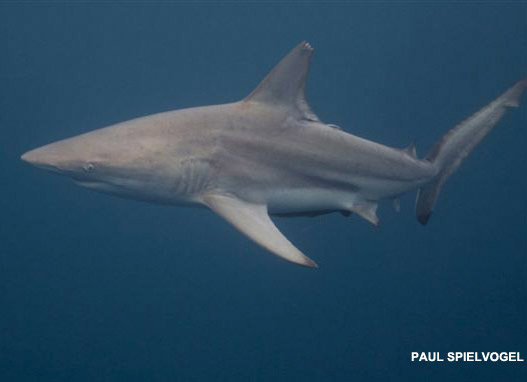shark: (9, 8, 527, 279)
